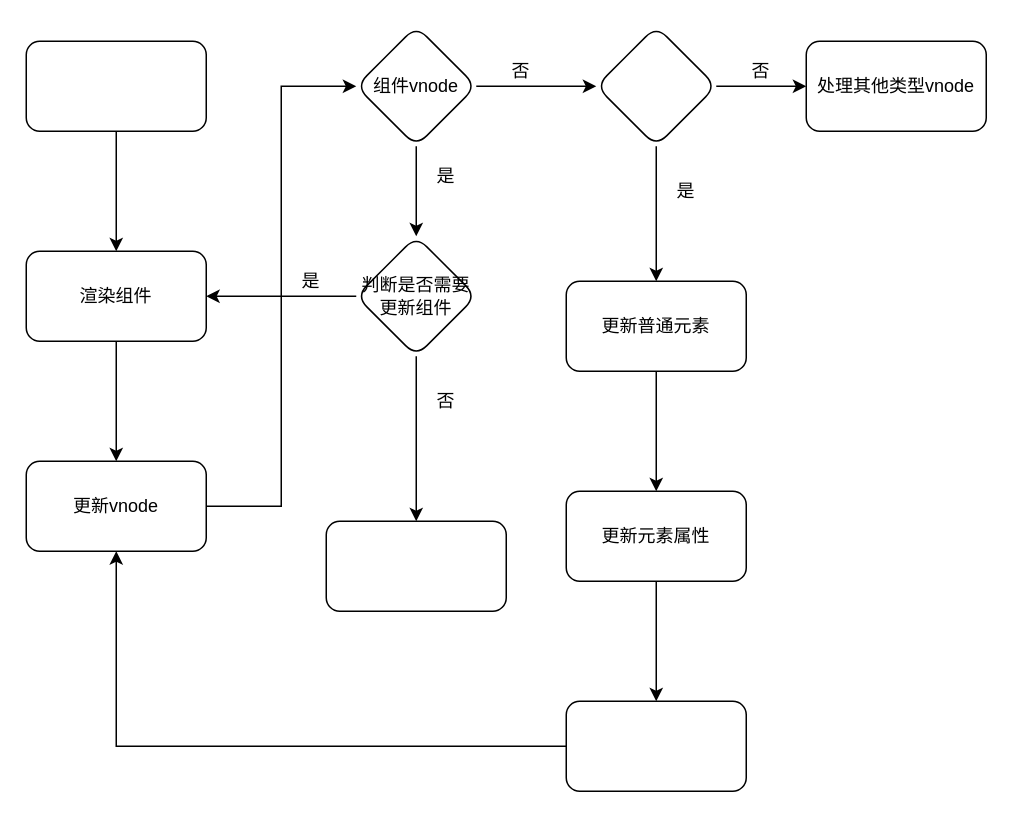
Some shapes in this 1013 by 818 pixel diagram are drawn without their labels. The centre of each missing label's shape, as x and y in pixels:
拷贝属性: (415,565)
数据更新: (115,85)
普通元素vnode: (655,85)
更新子节点(diff算法): (655,745)
